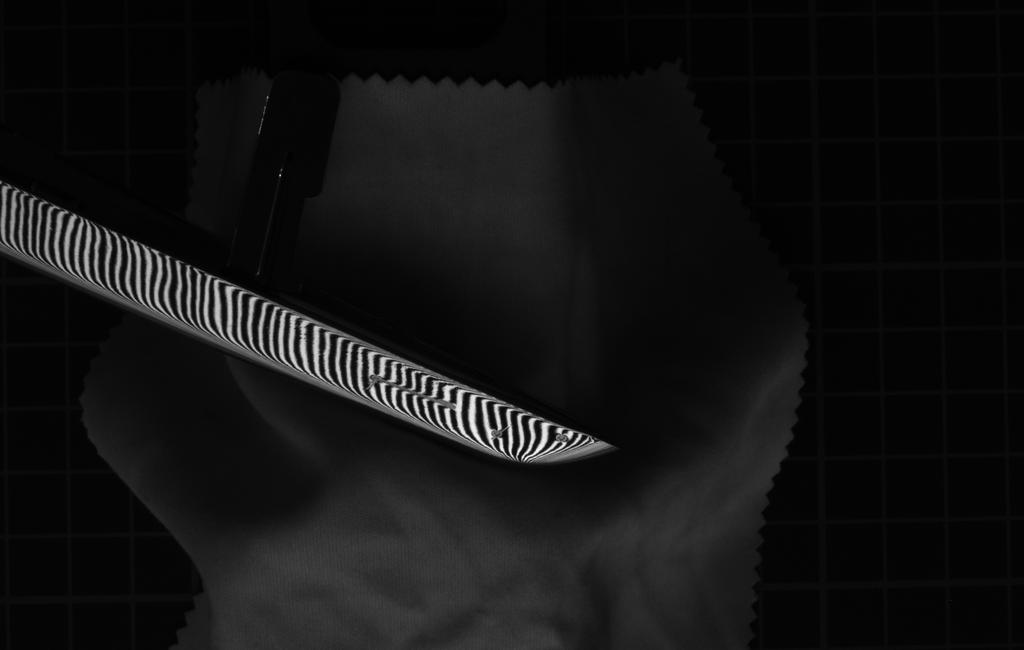Pierced: (486, 422, 507, 442), (547, 428, 573, 444)
Scratch: (352, 369, 464, 419)
